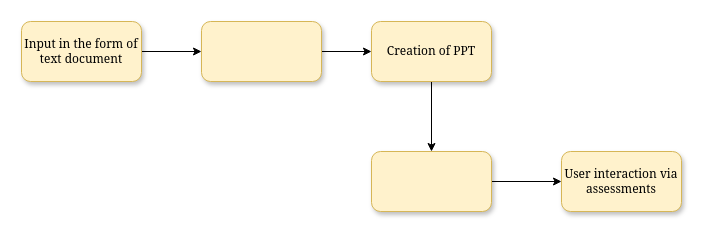
The diagram is 705 pixels wide and 236 high, and some of its shapes have lost their labels. Here are the shapes that lost their labels. From the top down, the centre of each, then its label:
At [262,52]: "Text summarization".
At [432,182]: "Audio explaination as voiceover".
